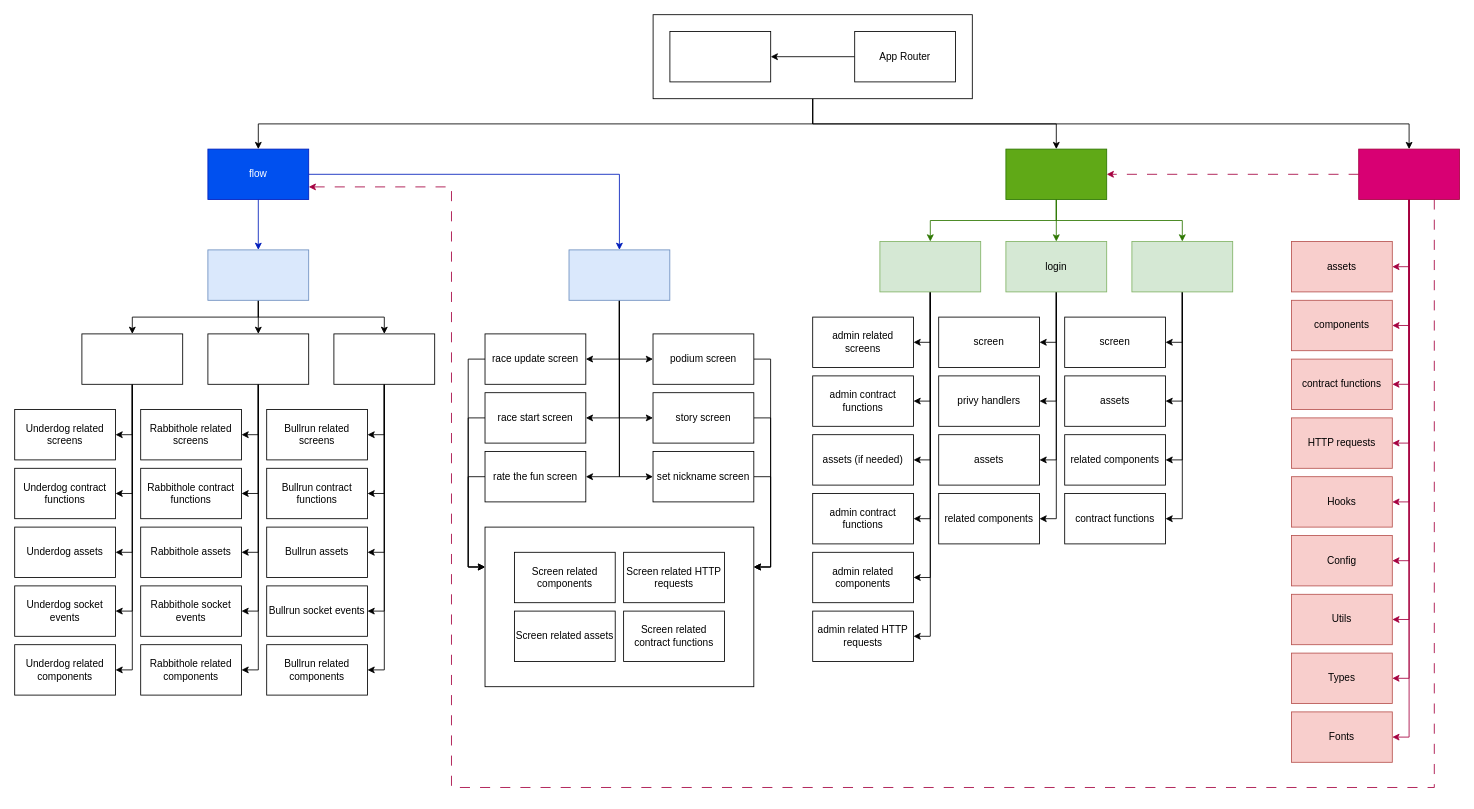
This 1474x809 diagram has some shape labels left out. The centre of each missing label's shape, as x and y in pixels:
"admin" goes at (x=930, y=266).
"App" goes at (x=720, y=56).
"Bullrun" goes at (x=384, y=358).
"common" goes at (x=1056, y=174).
"flow-common" goes at (x=619, y=274).
"games" goes at (x=258, y=274).
"global" goes at (x=1409, y=174).
"Rabbithole" goes at (x=258, y=358).
"select race" goes at (x=1182, y=266).
"Underdog" goes at (x=132, y=358).
